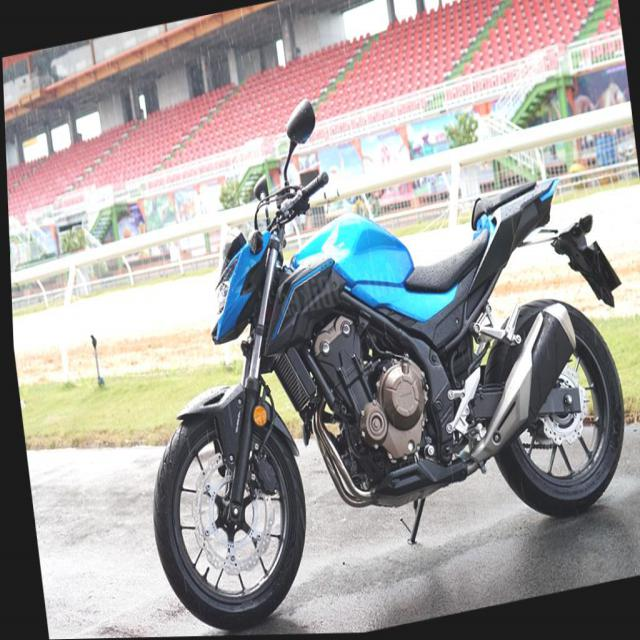CB500F: (108, 113, 640, 638)
